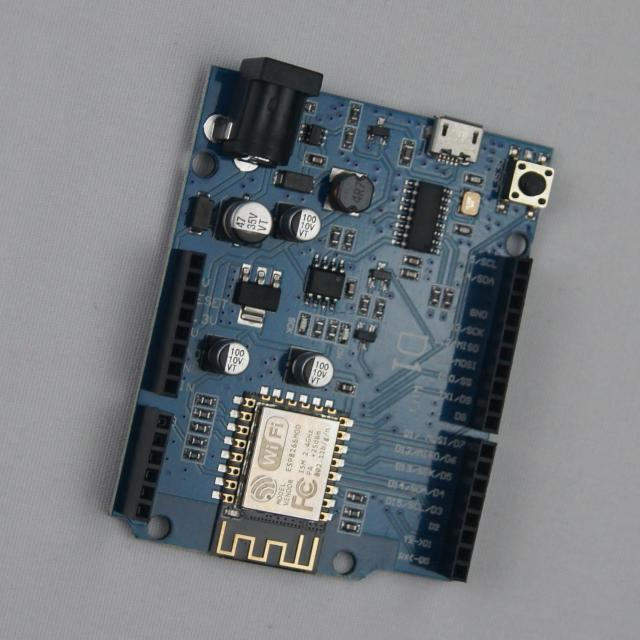Arduino Uno WiFi Shield: (113, 59, 554, 582)
